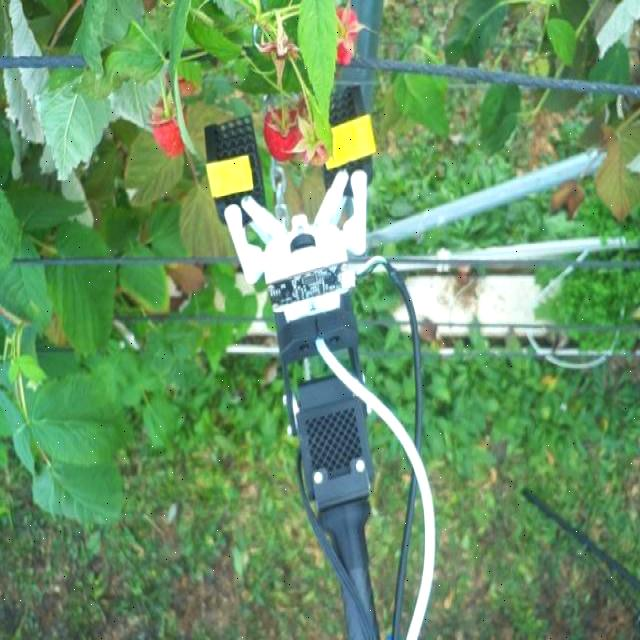Riped berries: (327, 2, 374, 61), (144, 99, 190, 151), (264, 103, 308, 156)
